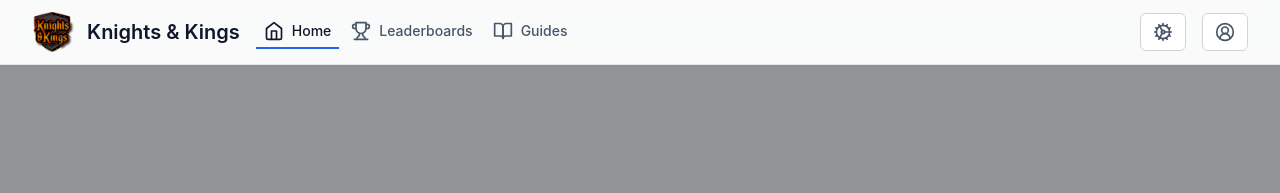
theme switcher (cogwheel) in the navigation (#95) › is shown to players too, and the account menu no longer lists the themes
The image size is (1280, 193).
Click the button named "Account menu": (1225, 32) [1202, 13, 1248, 51]
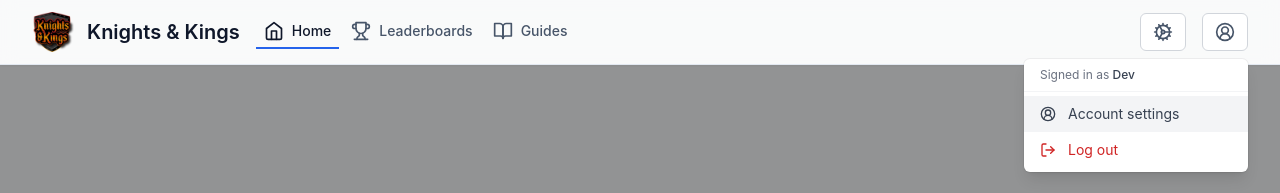
Expected: the button named "Theme" is shown, [1140, 13, 1186, 51]
Result: the menu items read "Account settings", "Log out", in this order at [1024, 96, 1248, 132]; [1024, 132, 1248, 168]
